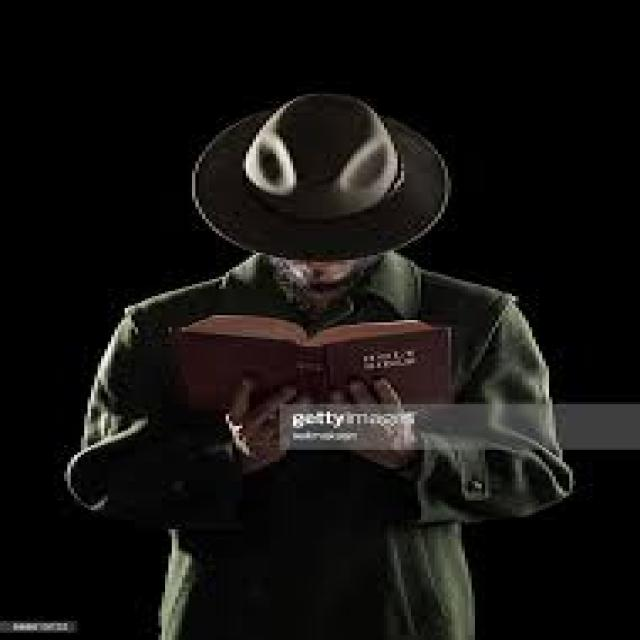hat: (185, 104, 448, 291)
